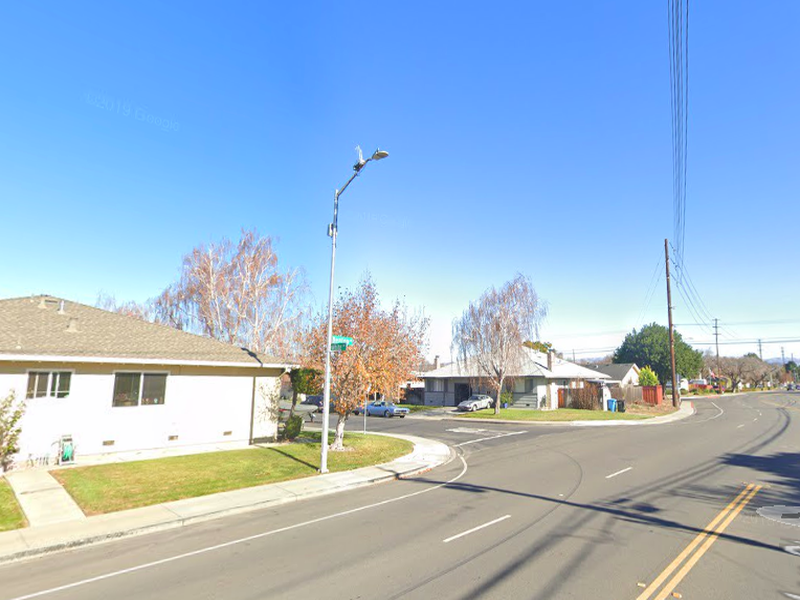utility_pole: (651, 232, 679, 289)
